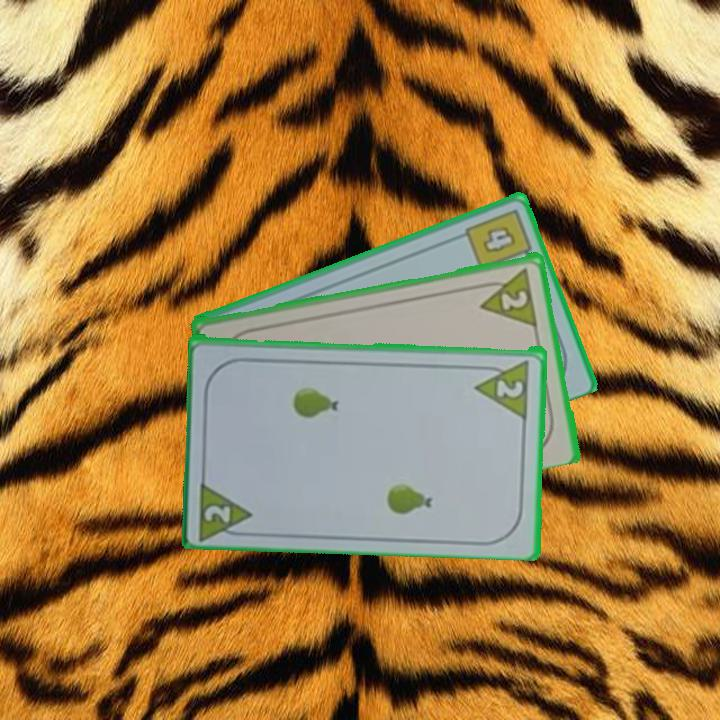2p: (473, 263, 541, 328), (195, 475, 257, 540), (493, 373, 527, 400)
4b: (461, 205, 535, 272)
